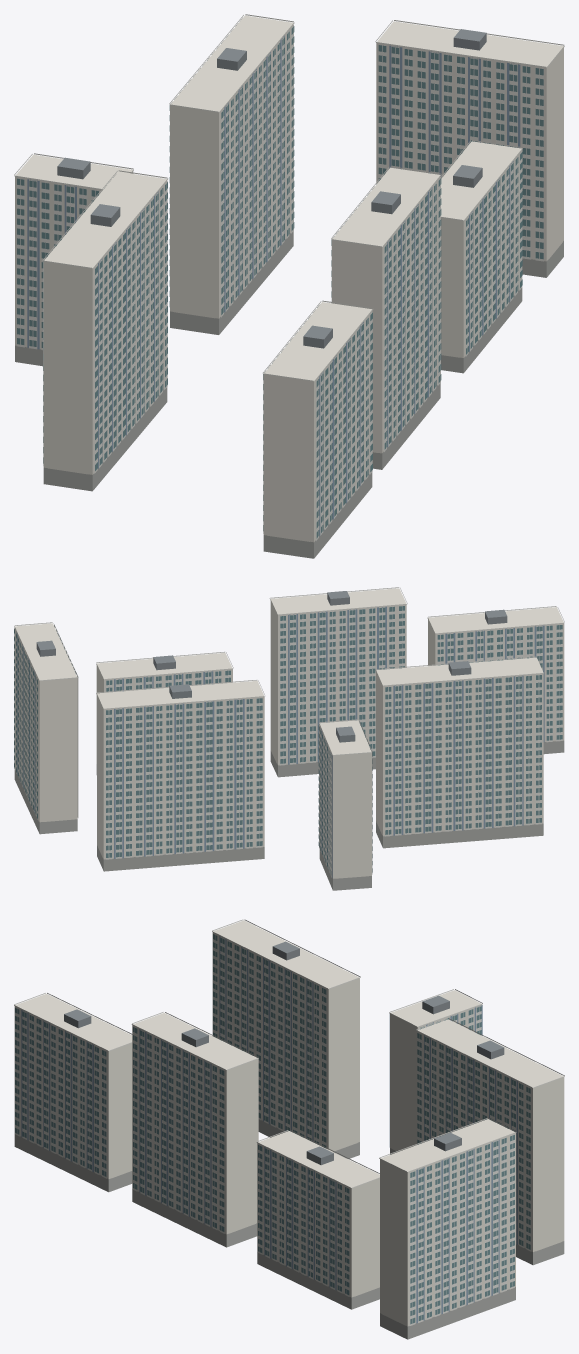
The model's file is representative-a13003003.glb.
3 renders of one model, top to bottom at view 1: azimuth 30°, elevation 25°; view 2: azimuth 150°, elevation 25°; view 3: azimuth 270°, elevation 25°, orthographic. The views are drawn at different scales.
Parts seen in each view (by area): view 1: A13003003_wall001, A13003003_trim001, A13003003_glass001, A13003003_accent001, A13003003_base001, A13003003_roof001; view 2: A13003003_wall001, A13003003_trim001, A13003003_glass001, A13003003_accent001, A13003003_base001, A13003003_roof001; view 3: A13003003_wall001, A13003003_trim001, A13003003_glass001, A13003003_accent001, A13003003_base001, A13003003_roof001.
Boxes of the visible parts, bbox=[...] form: A13003003_wall001: bbox=[15, 15, 563, 542]; A13003003_trim001: bbox=[14, 14, 564, 540]; A13003003_glass001: bbox=[17, 21, 543, 538]; A13003003_accent001: bbox=[27, 35, 520, 536]; A13003003_base001: bbox=[15, 231, 563, 558]; A13003003_roof001: bbox=[57, 29, 486, 348]; A13003003_wall001: bbox=[14, 588, 564, 878]; A13003003_trim001: bbox=[14, 587, 564, 877]; A13003003_glass001: bbox=[14, 606, 562, 875]; A13003003_accent001: bbox=[16, 606, 544, 878]; A13003003_base001: bbox=[14, 740, 564, 890]; A13003003_roof001: bbox=[36, 591, 507, 742]; A13003003_wall001: bbox=[14, 920, 564, 1326]; A13003003_trim001: bbox=[14, 919, 564, 1325]; A13003003_glass001: bbox=[15, 934, 530, 1324]; A13003003_accent001: bbox=[21, 936, 517, 1323]; A13003003_base001: bbox=[14, 1119, 564, 1339]; A13003003_roof001: bbox=[64, 941, 504, 1165].
Size of the model in its own units: 158 by 56.2 by 152.
